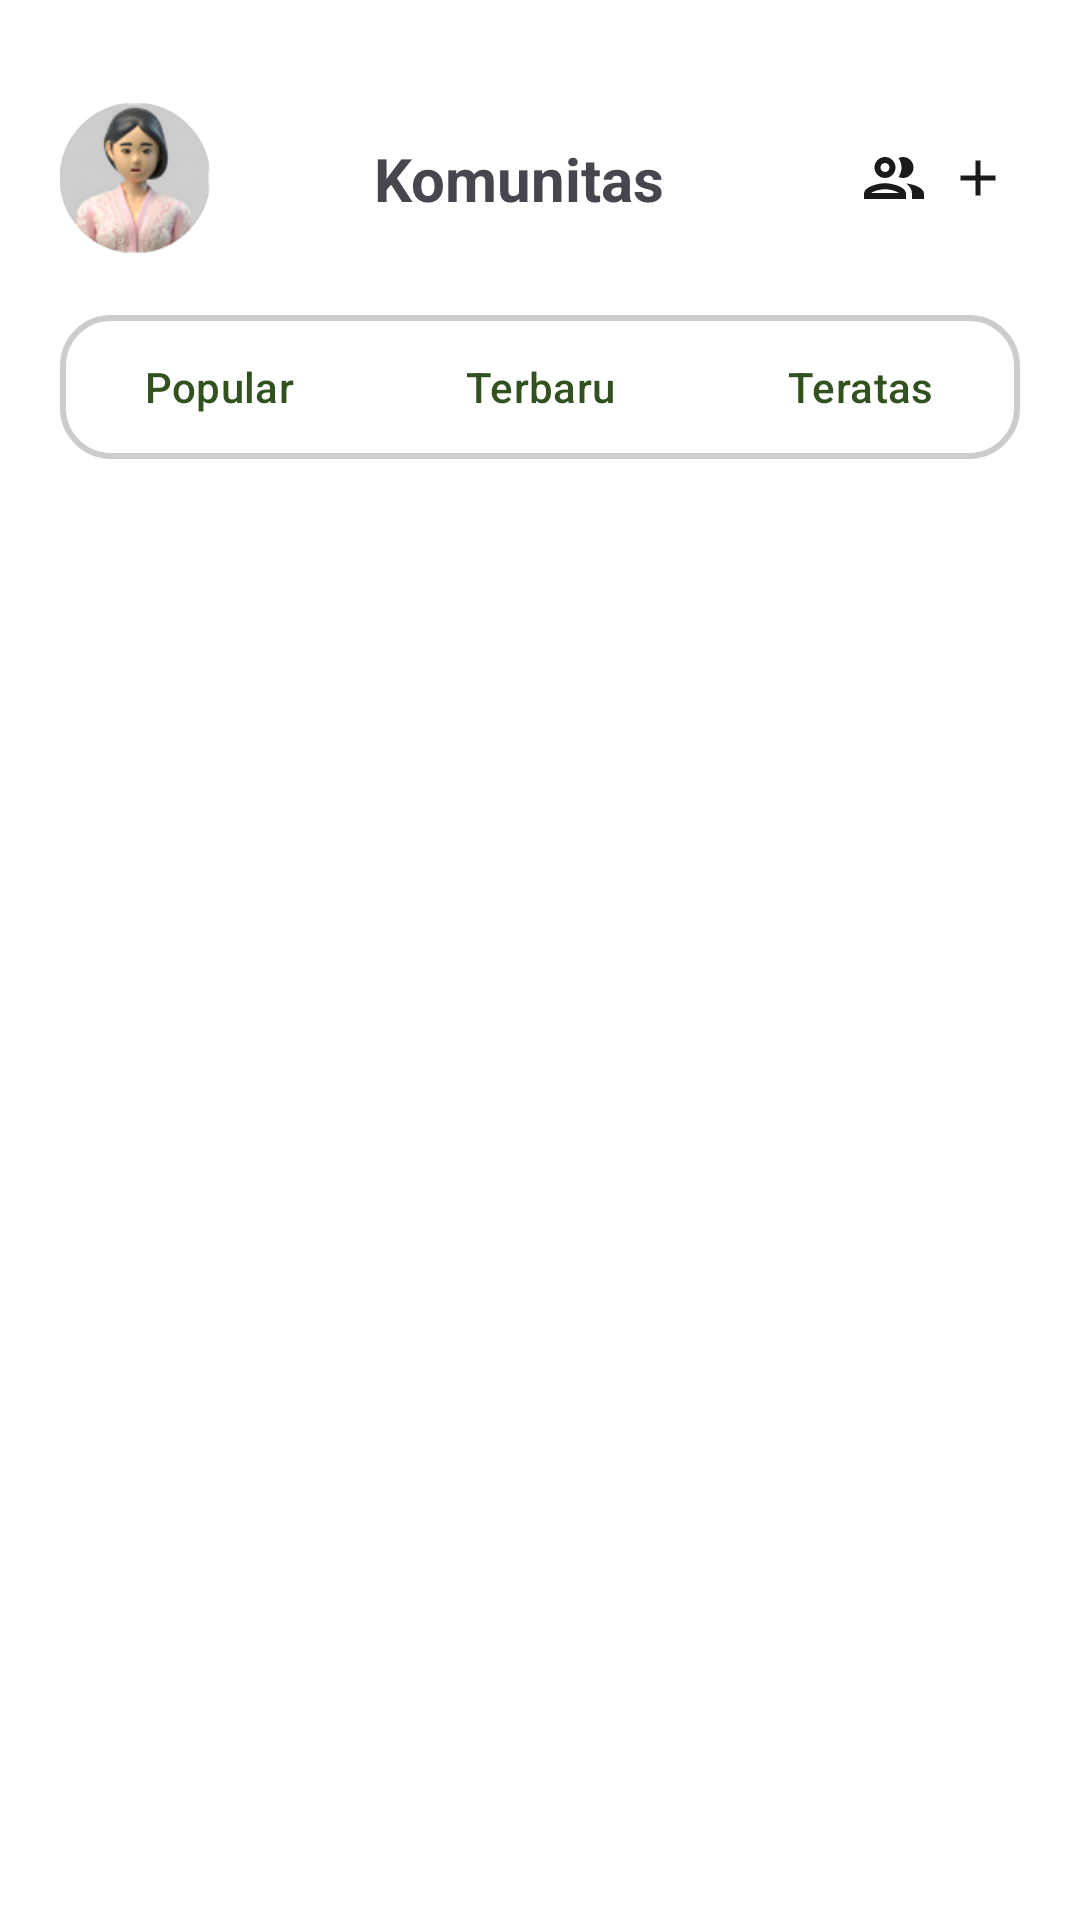

Point at icon controls on the screen. Image size 1080 × 1920, points as point (x, y).
add: point (978, 178)
community: point (894, 178)
profile holder: point (134, 178)
